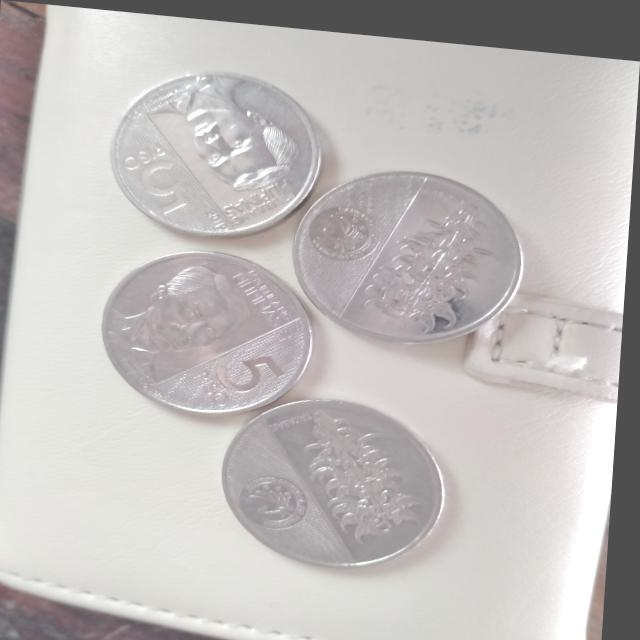5_New_Back: (369, 195, 516, 335), (307, 396, 436, 537)
5_New_Front: (189, 328, 298, 416), (118, 127, 200, 213)
